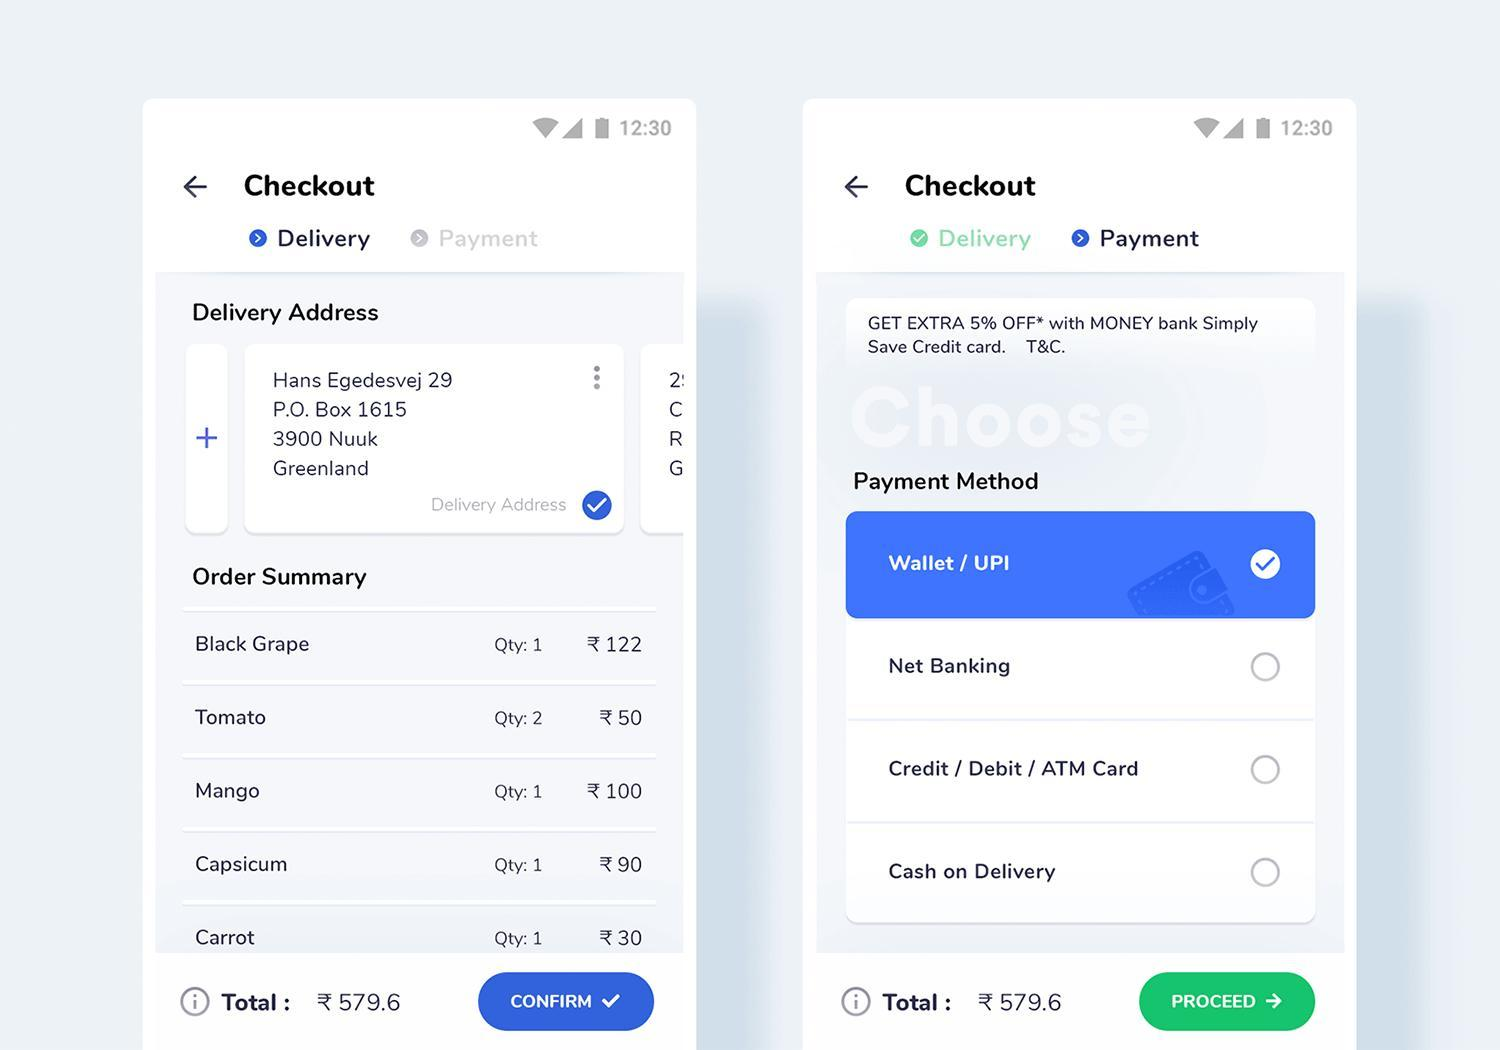button: (1142, 969, 1316, 1035), (479, 969, 657, 1032)
checkbox: (1245, 646, 1286, 698), (576, 487, 617, 531), (1248, 848, 1285, 897), (1249, 545, 1287, 588), (1252, 749, 1287, 795)
icon: (582, 360, 614, 396)
label: (887, 751, 1146, 788), (887, 853, 1063, 884), (884, 651, 1022, 686)
table: (189, 556, 675, 962)
